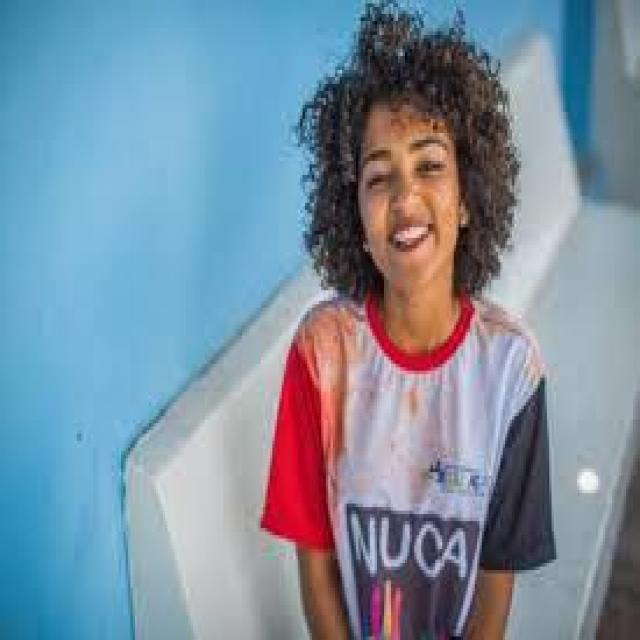person: (270, 18, 552, 636)
